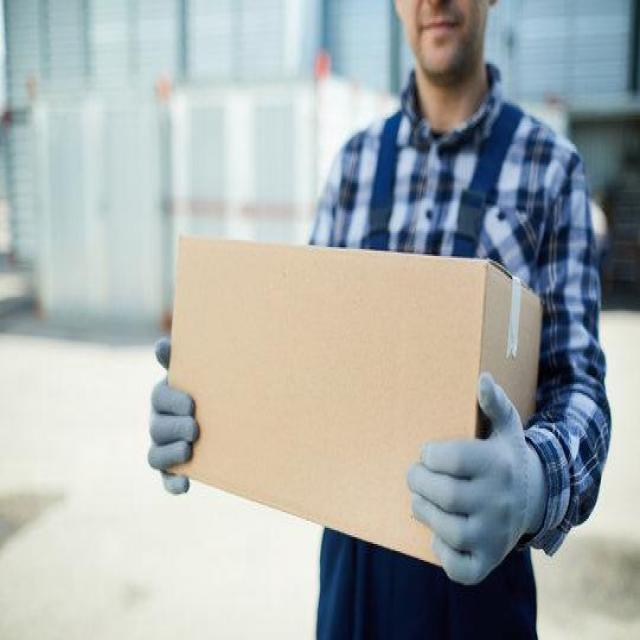box: (166, 226, 549, 574)
